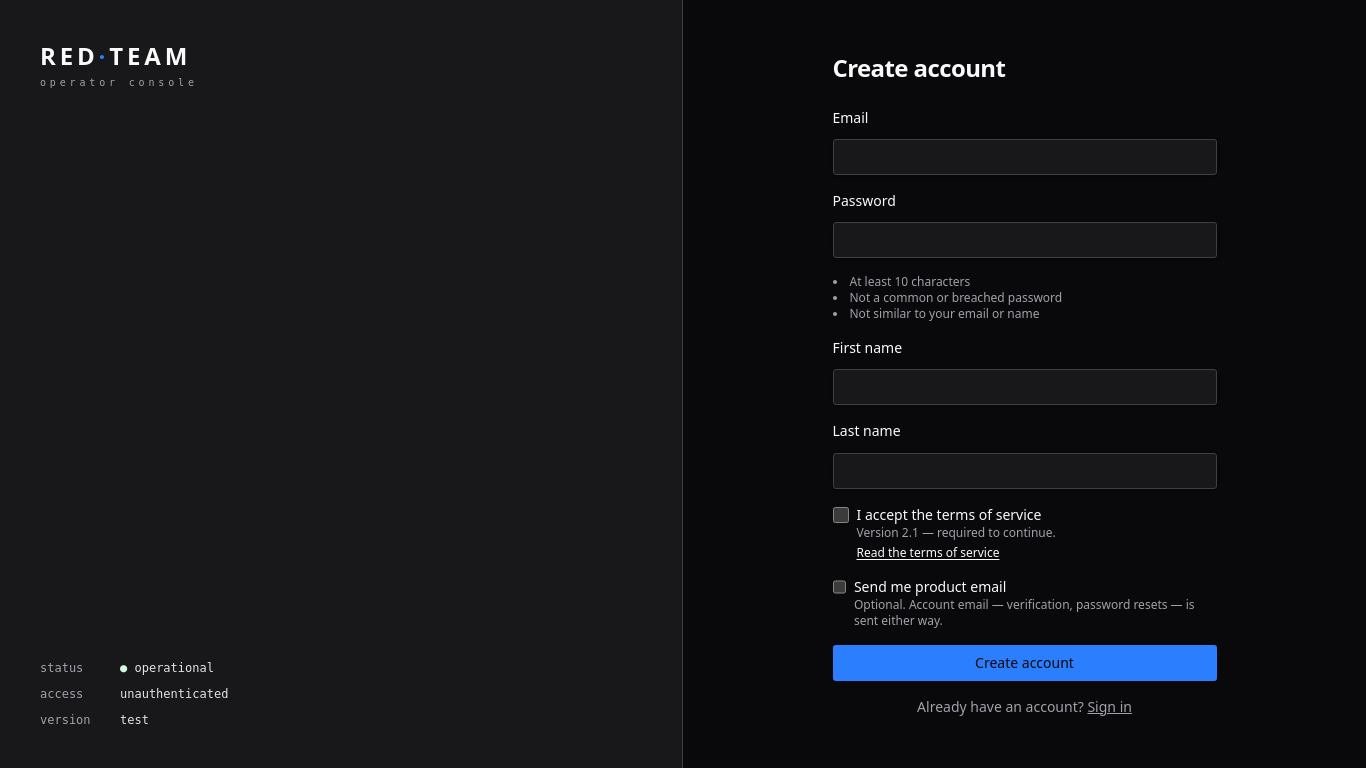
RegisterPage — terms consent › refuses to submit until the published terms are accepted
Check: the checkbox labelled "I accept the terms of service" is shown, box [832,506,848,522]
Type "test@example.com" into the field labelled "Email".
click(1024, 157); type("test@example.com")  # box [832,139,1216,175]
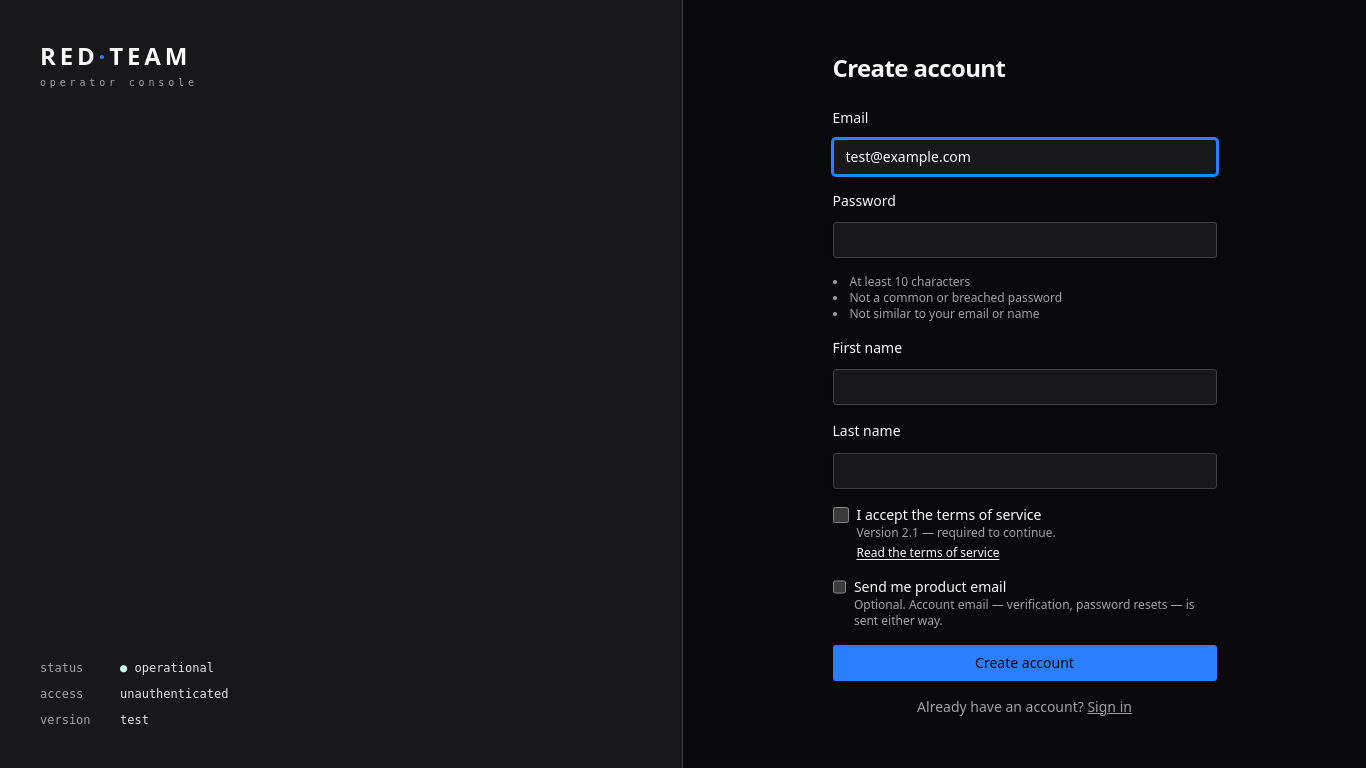
Type "longenough123" into the password field labelled "Password".
click(1024, 240); type("longenough123")  # box [832,222,1216,258]
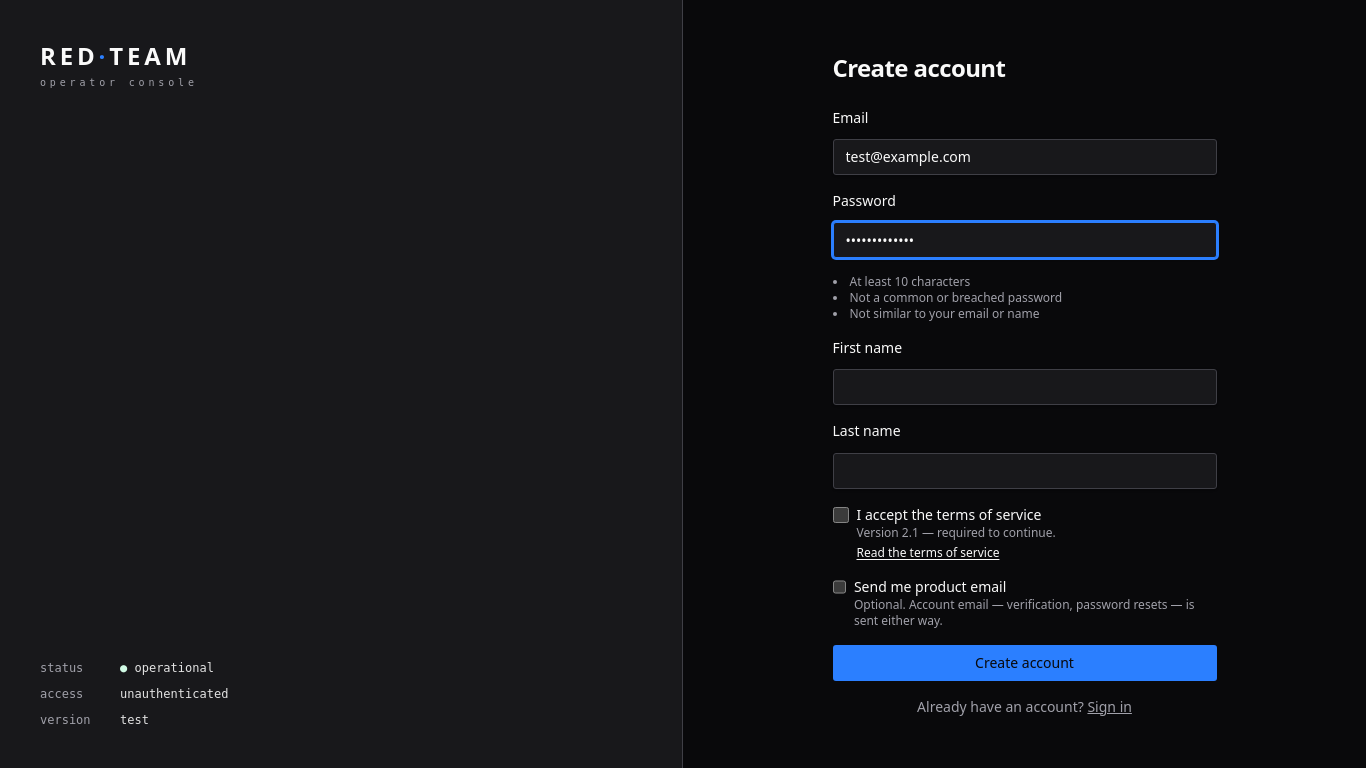
Click the button "Create account".
click(1024, 662)  # box [832,644,1216,680]
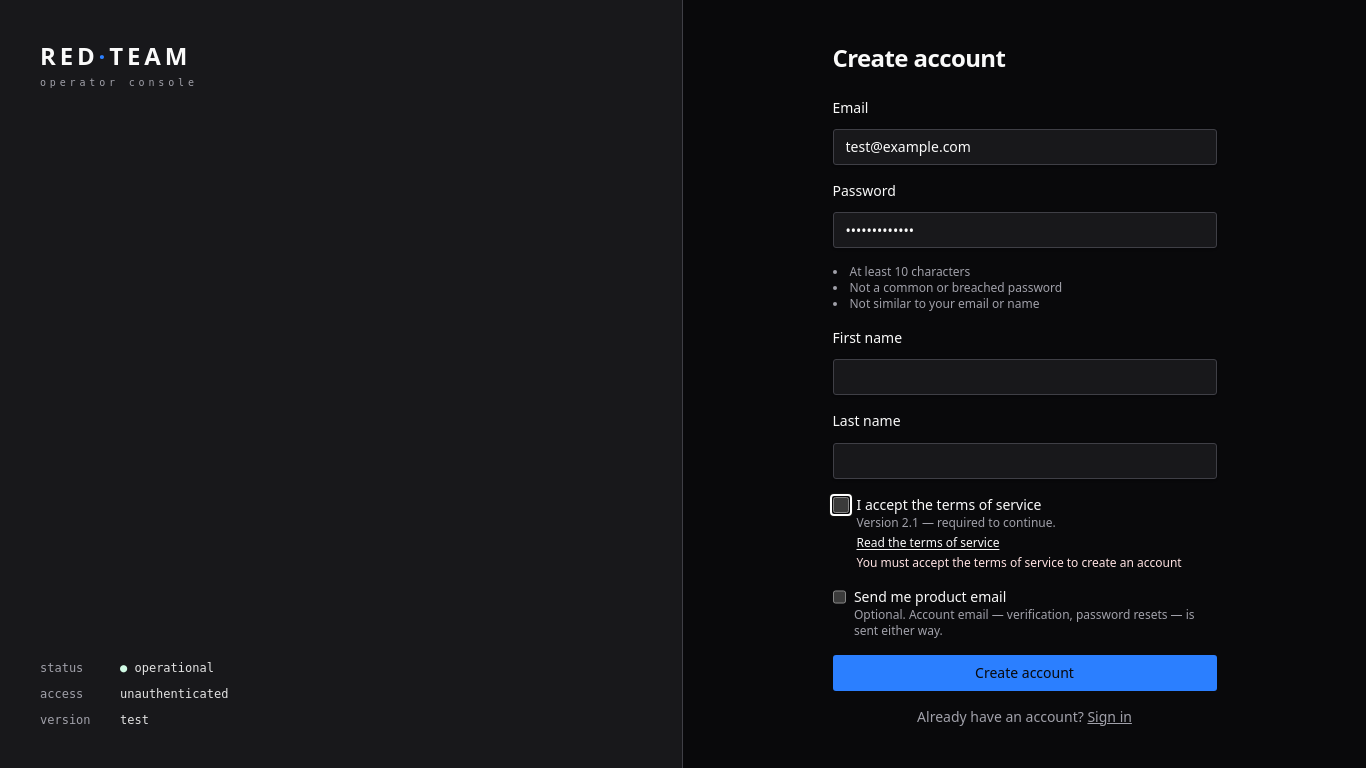
Check: the message "You must accept the terms of service to create an account" is shown, box [856,554,1182,570]
